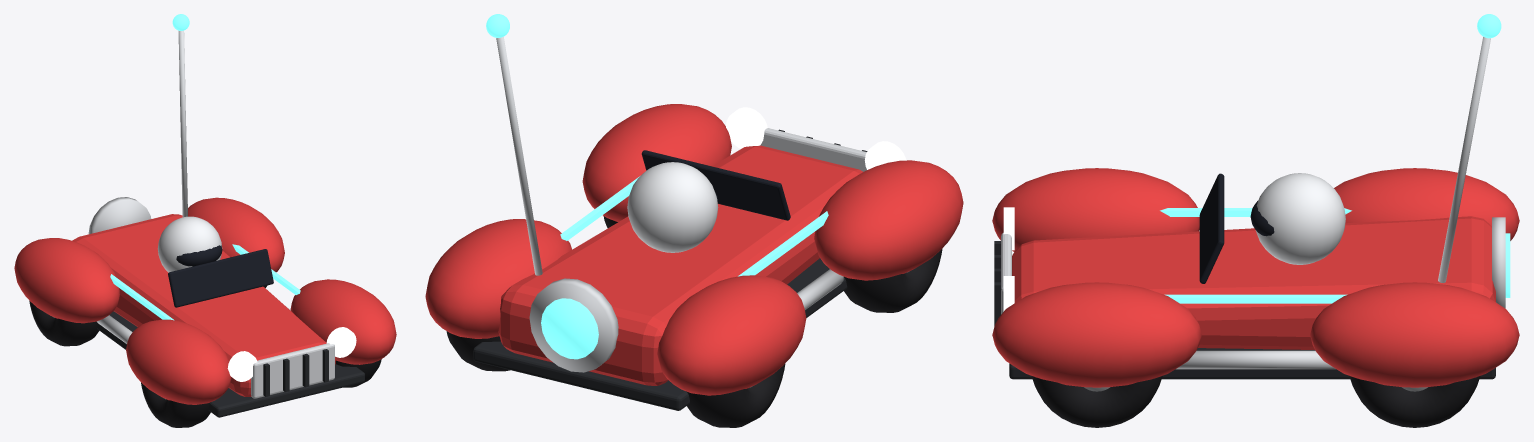
Rendered from kart-radio.glb.
3 renders of one model, left to right at view 1: azimuth 30°, elevation 25°; view 2: azimuth 150°, elevation 25°; view 3: azimuth 270°, elevation 25°, orthographic. The views are drawn at different scales.
Visible parts, largest first — view 1: Hull.008, Ball.004, Ball.005, Ball.006, Box.044, Ball.007, Box.036, Box.039, Helmet.002, Wheel_FL.003, Wheel_RL.003, Cyl.005 (+7 smaller); view 2: Hull.008, Ball.005, Ball.004, Ball.007, Ball.006, Helmet.002, Box.036, Cyl.005, Box.044, Wheel_FL.003, Wheel_RL.003, Cyl.006 (+8 smaller); view 3: Hull.008, Ball.006, Ball.007, Ball.004, Ball.005, Helmet.002, Wheel_FR.003, Wheel_RR.003, Rod.016, Box.036, Rod.017, Box.044 (+4 smaller).
Boxes of the visible parts, x1,y1,x2,y2 form: Hull.008: (72,214,335,396); Ball.004: (126,319,231,404); Ball.005: (14,238,119,323); Ball.006: (290,279,396,364); Box.044: (168,249,273,307); Ball.007: (188,197,284,272); Box.036: (97,311,364,417); Box.039: (251,343,334,398); Helmet.002: (157,216,222,272); Wheel_FL.003: (141,382,210,427); Wheel_RL.003: (29,300,99,346); Cyl.005: (88,197,151,234); Hull.008: (498,145,862,385); Ball.005: (657,275,806,395); Ball.004: (814,160,963,280); Ball.007: (425,219,571,338); Ball.006: (582,104,731,221); Helmet.002: (627,162,718,252); Box.036: (473,258,847,410); Cyl.005: (529,278,618,372); Box.044: (641,150,790,220); Wheel_FL.003: (844,248,942,312); Wheel_RL.003: (686,363,785,427); Cyl.006: (541,298,598,359); Hull.008: (1012,216,1495,349); Ball.006: (992,282,1201,387); Ball.007: (1310,282,1519,387); Ball.004: (992,168,1199,251); Ball.005: (1334,168,1519,240); Helmet.002: (1255,173,1345,264); Wheel_FR.003: (1031,376,1162,427); Wheel_RR.003: (1349,376,1480,427); Rod.016: (1176,350,1335,369); Box.036: (1009,348,1495,379); Rod.017: (1438,37,1490,282); Box.044: (1199,173,1224,283).
Bounding box in the file's own units: 2.93 × 3.19 × 3.9.
